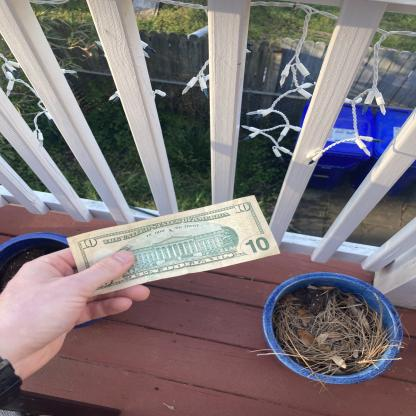ten-back: (67, 195, 282, 297)
